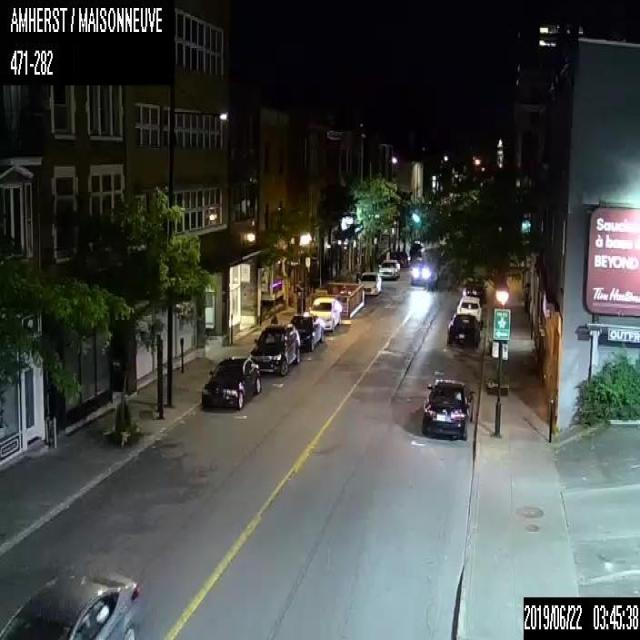vehicle: (0, 558, 143, 638), (421, 374, 474, 438), (200, 355, 260, 411), (249, 323, 300, 374), (290, 312, 324, 351), (446, 311, 480, 346), (308, 296, 341, 331), (456, 294, 484, 325), (462, 277, 488, 302), (410, 260, 433, 286), (377, 257, 400, 279), (358, 271, 380, 294)
